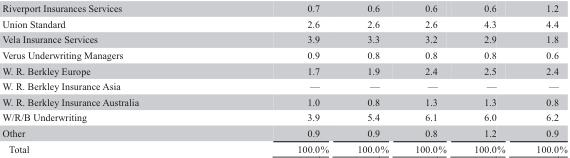table: (1, 1, 566, 155)
table column: (1, 1, 217, 155), (217, 1, 342, 155), (459, 1, 519, 155), (342, 1, 401, 155), (401, 1, 459, 155), (519, 1, 566, 155)
table column header: (1, 1, 566, 15)
table row: (1, 15, 566, 31), (1, 46, 566, 62), (1, 77, 566, 93), (1, 108, 566, 124), (1, 124, 566, 140), (1, 31, 566, 46), (1, 62, 566, 77), (1, 93, 566, 108), (1, 140, 566, 155), (1, 1, 566, 15)
